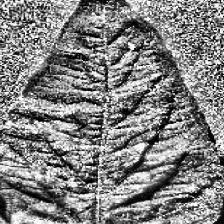Blossom Blight: (57, 131, 101, 170), (114, 141, 168, 171), (77, 68, 126, 98), (80, 0, 127, 28), (154, 181, 206, 206)
